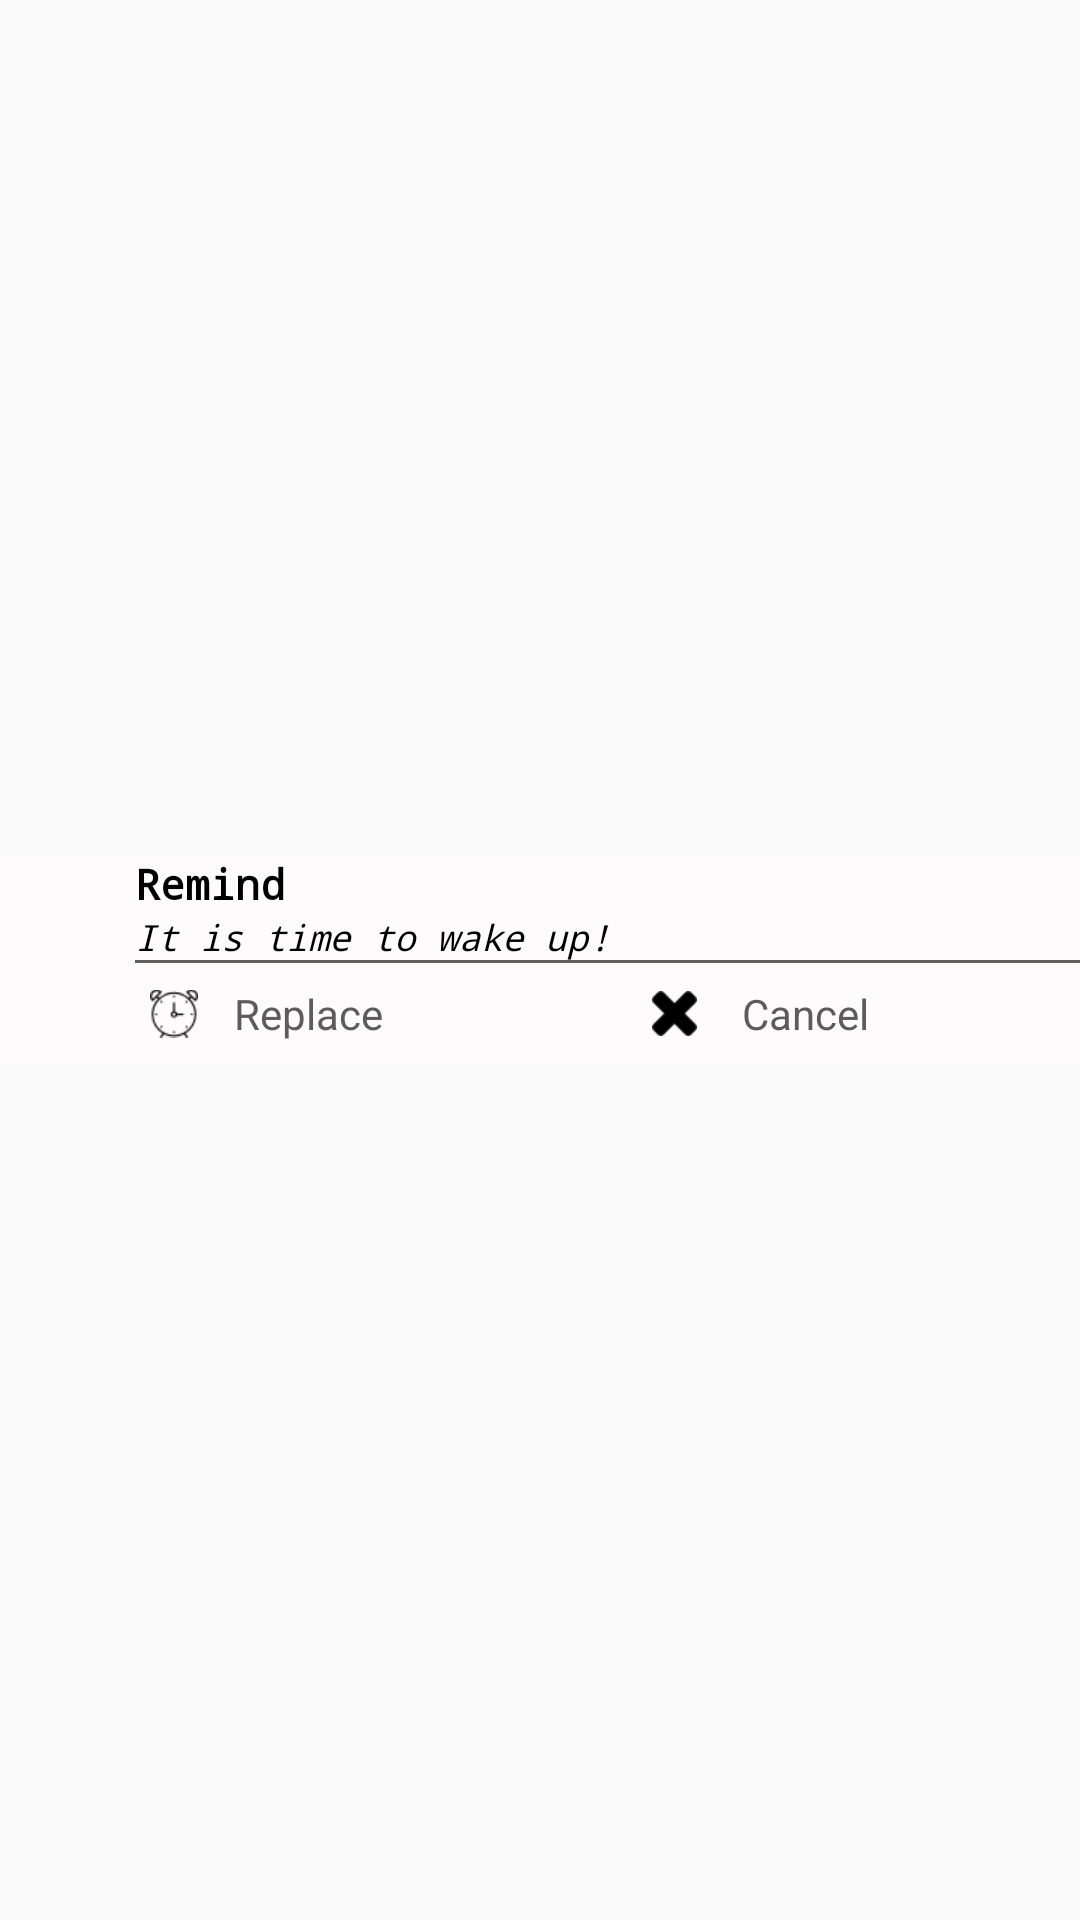

Locate icon controls on the screen. Image size 1080x1920, boxes as (x1, y1, x2, y2).
alarm: (150, 990, 198, 1038)
remove: (652, 991, 697, 1036)
